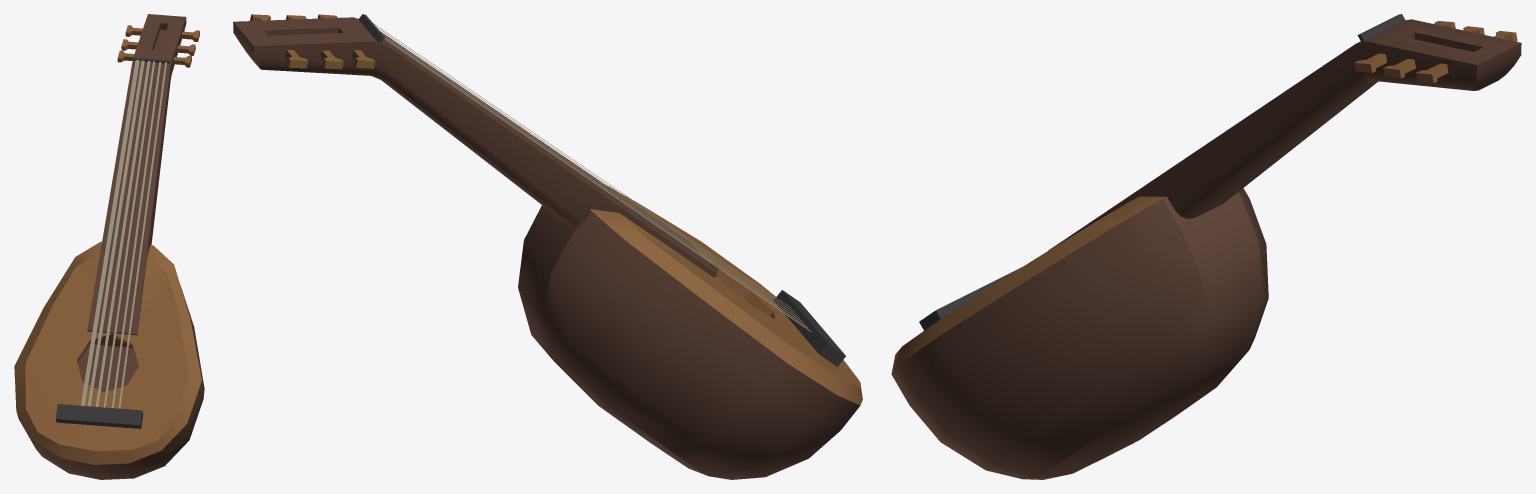
Rendered from big-mandolin.glb.
The picture shows the model from 3 angles, left to right: view 1: azimuth 30°, elevation 25°; view 2: azimuth 150°, elevation 25°; view 3: azimuth 270°, elevation 25°; orthographic projection. The views are drawn at different scales.
Visible parts, largest first — view 1: Weapon_Lute; view 2: Weapon_Lute; view 3: Weapon_Lute.
Part boxes in pixels (box(x1,y1,x2,y2)): Weapon_Lute: box(14, 14, 204, 479); Weapon_Lute: box(233, 14, 862, 479); Weapon_Lute: box(891, 14, 1521, 479).
Bounding box in the file's own units: 2.02 × 2.21 × 2.23.
1 material, 1 textured.
